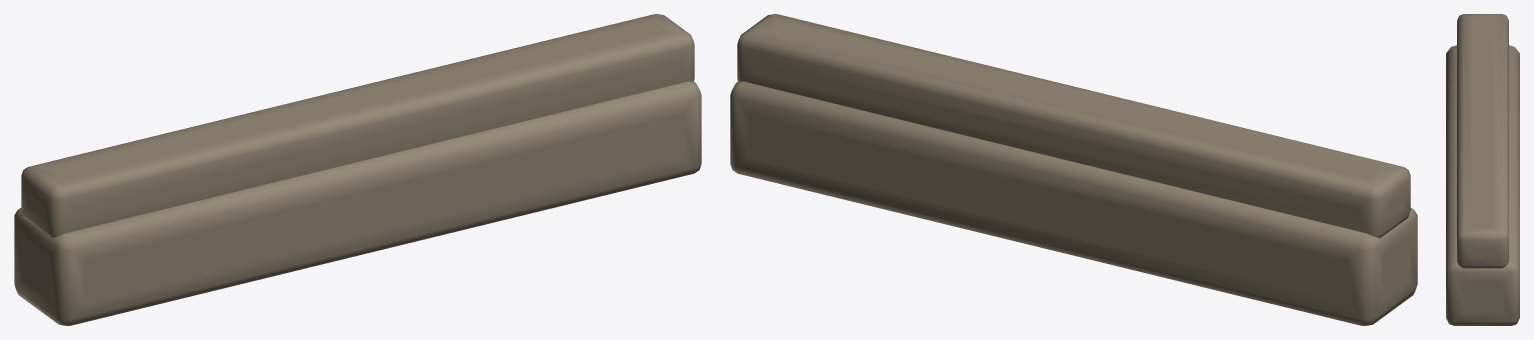
File: wall_edge.glb
3 renders of one model, left to right at view 1: azimuth 30°, elevation 25°; view 2: azimuth 150°, elevation 25°; view 3: azimuth 270°, elevation 25°, orthographic. The views are drawn at different scales.
Parts seen in each view (by area): view 1: Wall_Body; view 2: Wall_Body; view 3: Wall_Body.
Part boxes in pixels (bbox=[...]): Wall_Body: bbox=[14, 14, 701, 325]; Wall_Body: bbox=[730, 14, 1417, 325]; Wall_Body: bbox=[1446, 14, 1519, 325].
Size of the model in its own units: 1 by 0.2 by 0.14.
